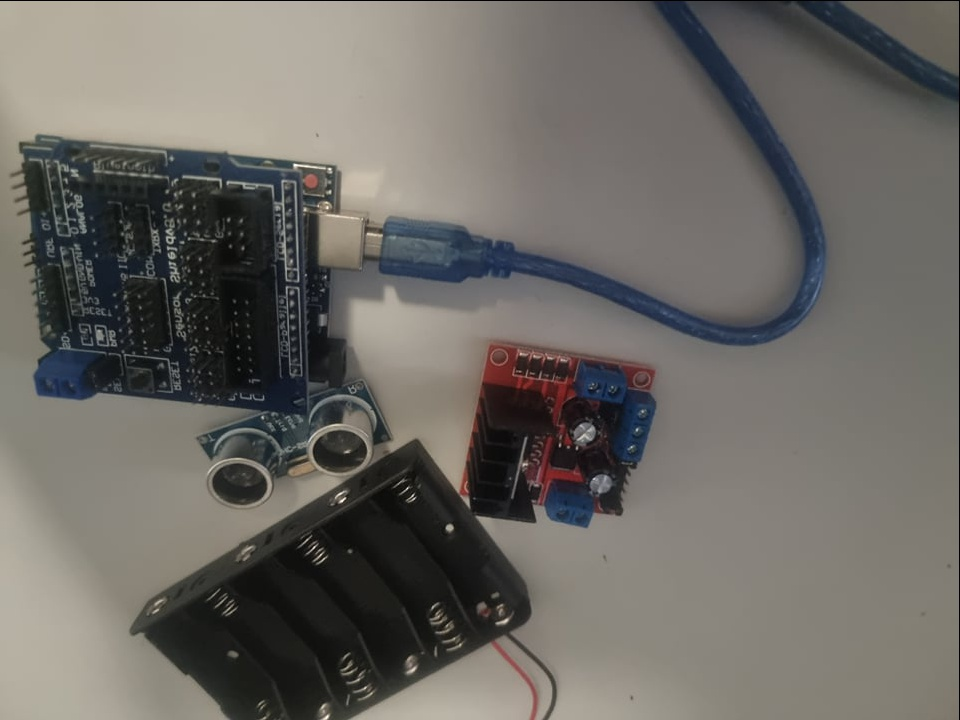5V EXPANSION: (15, 154, 308, 402)
BATTERY BOX: (120, 436, 538, 719)
MOTOR: (459, 343, 662, 515)
SENSOR: (195, 381, 396, 504)
UNO R3: (306, 157, 371, 385)
